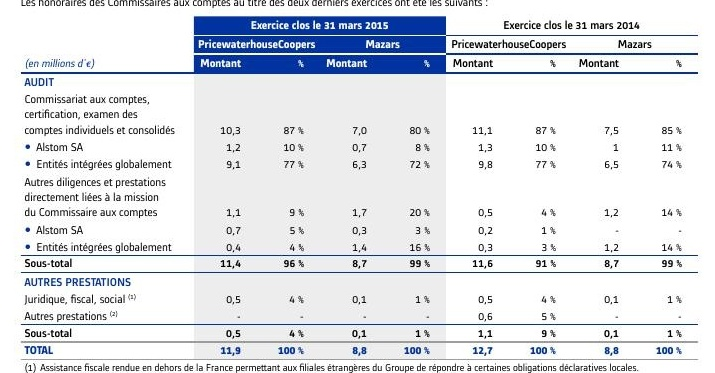table: (0, 0, 715, 373)
